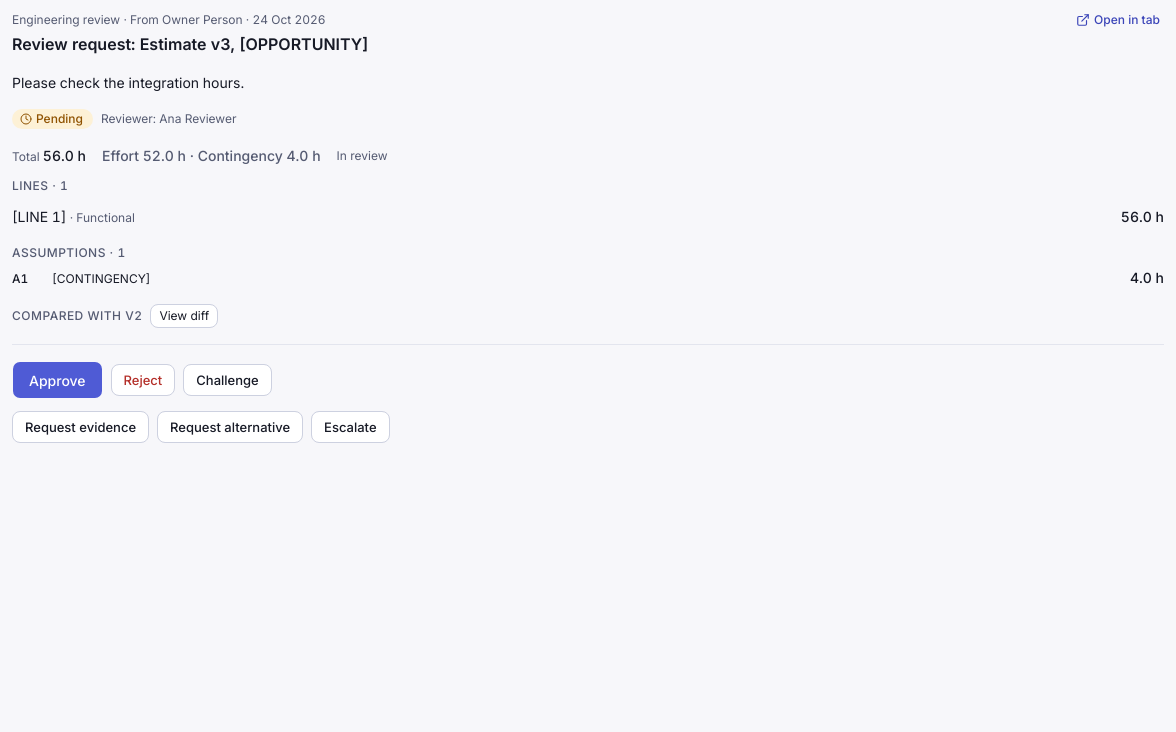
ReviewPanelLoader › after an escalation the actions are gone (the request is someone else's)
Click the button "Escalate" at coordinates (350, 427), box 311,411 -> 390,443
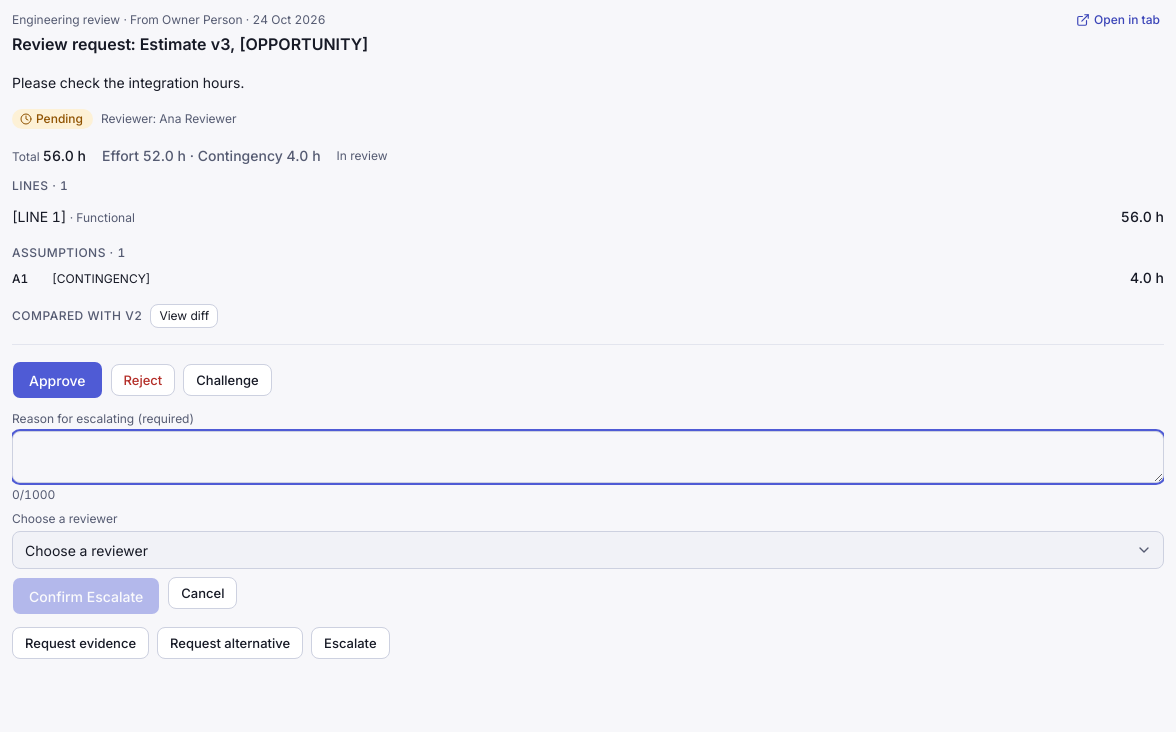
Type "Needs Cy" into the text box labelled "Reason for escalating (required)" at coordinates (588, 457), box 12,431 -> 1164,483
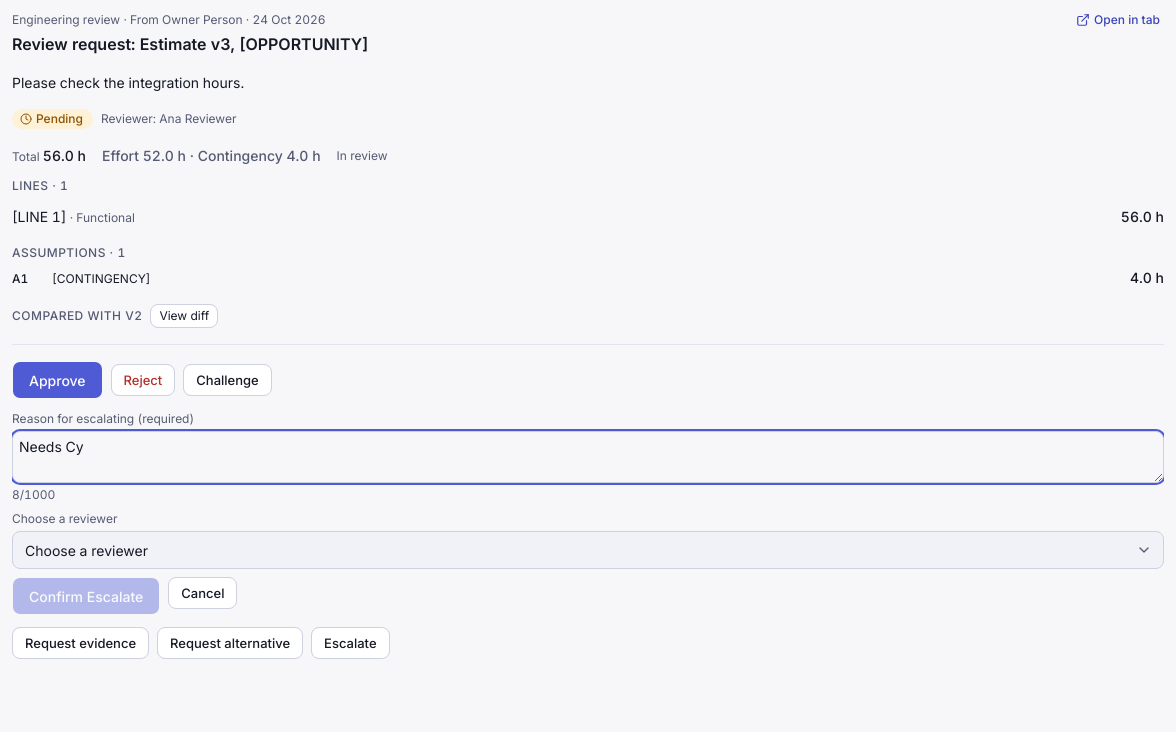
Select "Cy Reviewer" in the dropdown labelled "Choose a reviewer" at coordinates (588, 550), box 12,531 -> 1164,569
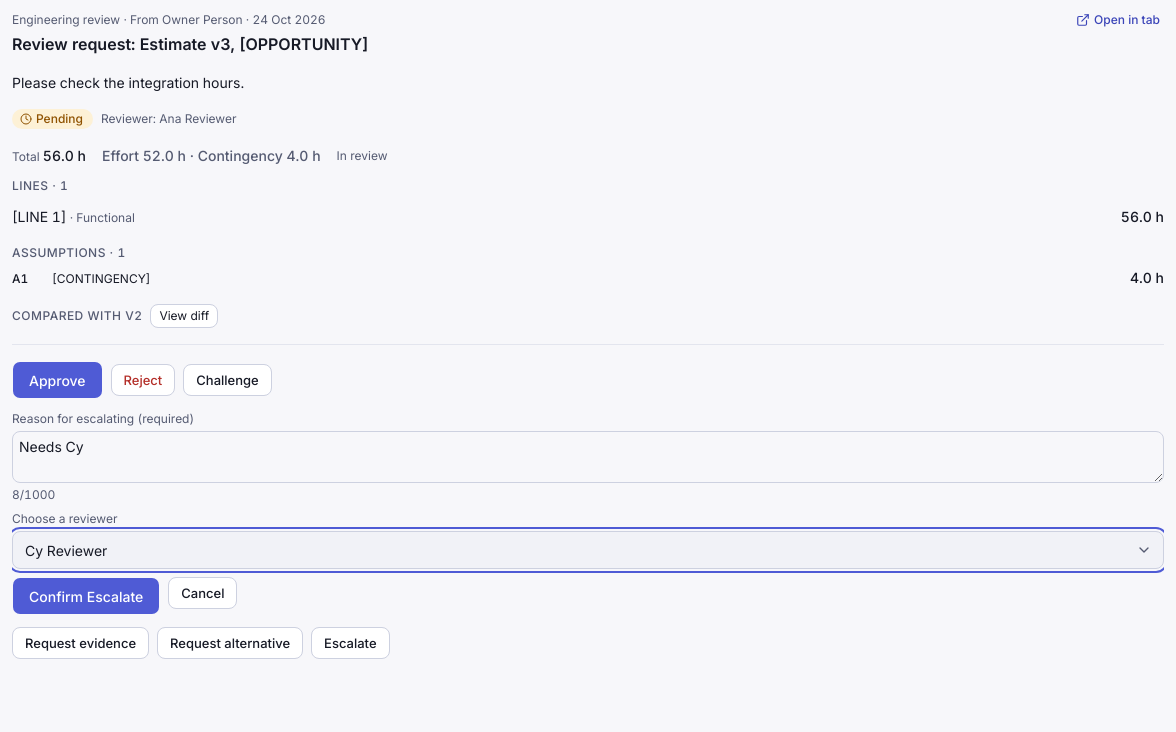
Click the button "Confirm Escalate" at coordinates (86, 596), box 12,577 -> 160,615
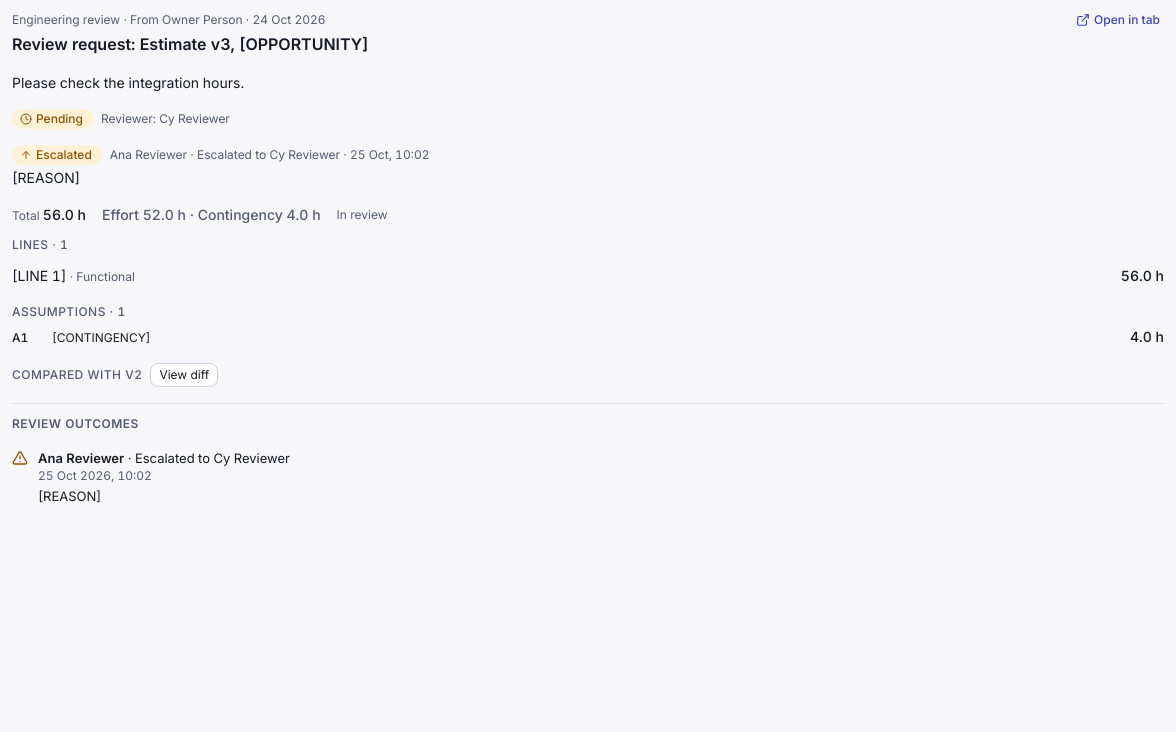
Result: the text "Reviewer: Cy Reviewer" is shown at 101,111 -> 230,127
